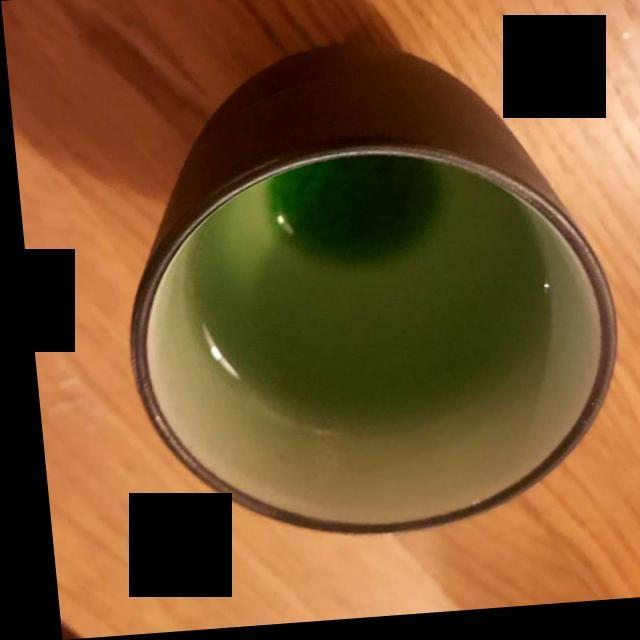water: (190, 165, 543, 438)
